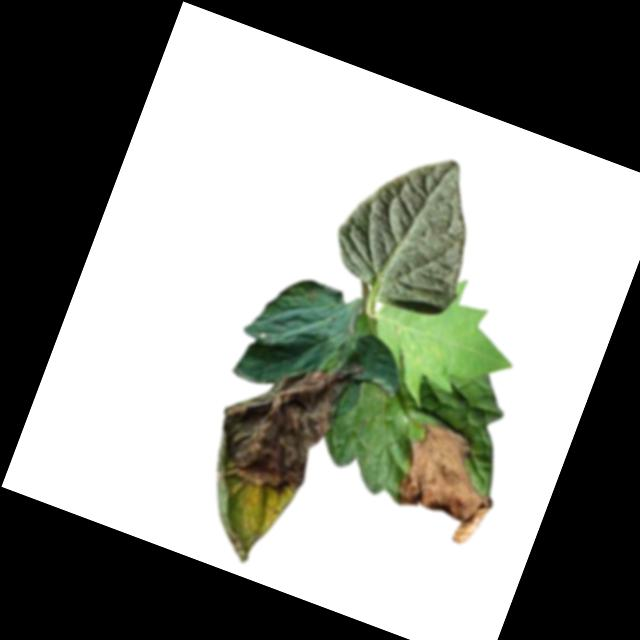Late_blight: (176, 320, 364, 579), (382, 418, 512, 551), (425, 341, 445, 362), (387, 323, 406, 342)
healthy: (319, 130, 501, 326)
